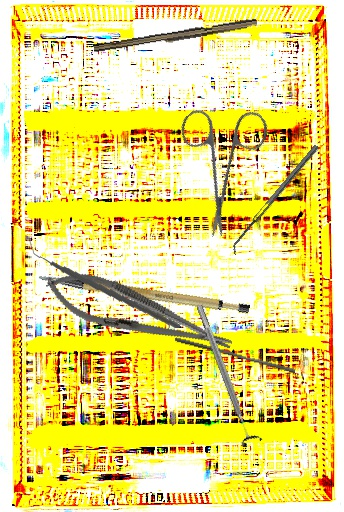Chopper: (28, 227, 181, 341)
Fixation Ring: (188, 301, 264, 448)
Iris Scissors: (141, 79, 304, 241)
Needle Holder: (39, 259, 239, 370)
Pusher: (173, 337, 297, 374)
Scalpel Handle: (37, 241, 252, 341), (93, 15, 258, 58)
Spatula Surgical: (227, 144, 324, 256)
